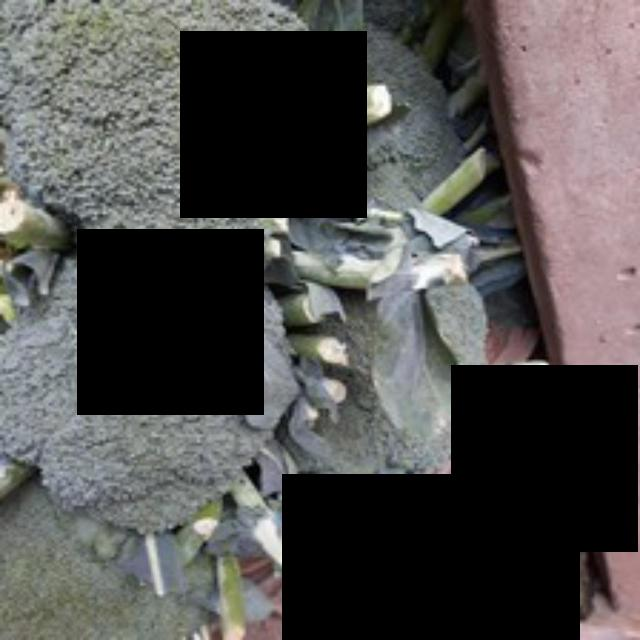broccoli: (0, 0, 343, 296)
